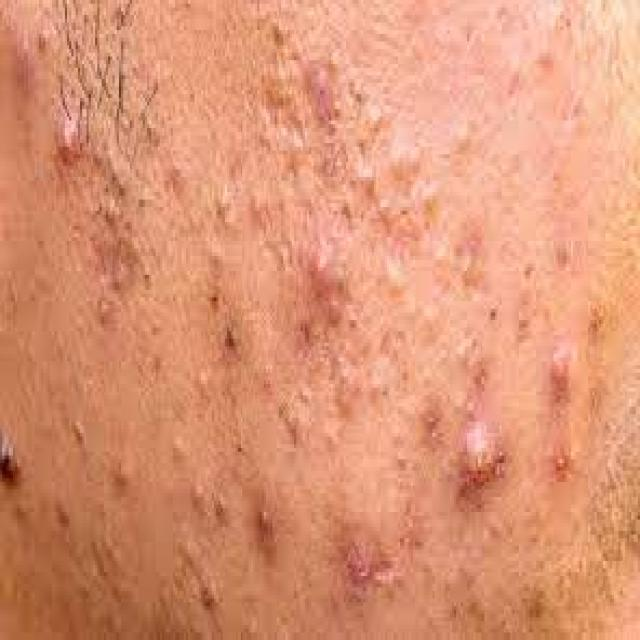blackhead: (0, 436, 18, 491), (263, 84, 294, 112), (550, 242, 572, 270), (199, 581, 217, 613), (69, 419, 89, 446), (324, 52, 342, 75), (256, 509, 272, 533), (357, 139, 371, 162), (214, 496, 227, 520), (109, 279, 128, 294), (224, 329, 236, 352), (26, 288, 38, 311), (367, 115, 380, 136), (66, 218, 82, 235), (516, 311, 528, 333), (208, 288, 221, 308), (270, 26, 284, 44), (121, 217, 135, 235), (352, 88, 367, 104), (554, 454, 567, 472), (469, 336, 481, 355), (488, 303, 499, 323), (104, 205, 116, 223), (234, 442, 248, 456), (522, 262, 534, 278), (36, 31, 44, 54), (34, 236, 48, 249), (332, 102, 342, 119), (141, 270, 153, 283), (8, 292, 21, 304), (87, 233, 100, 244), (138, 196, 148, 209), (110, 169, 117, 187), (118, 186, 126, 199)
